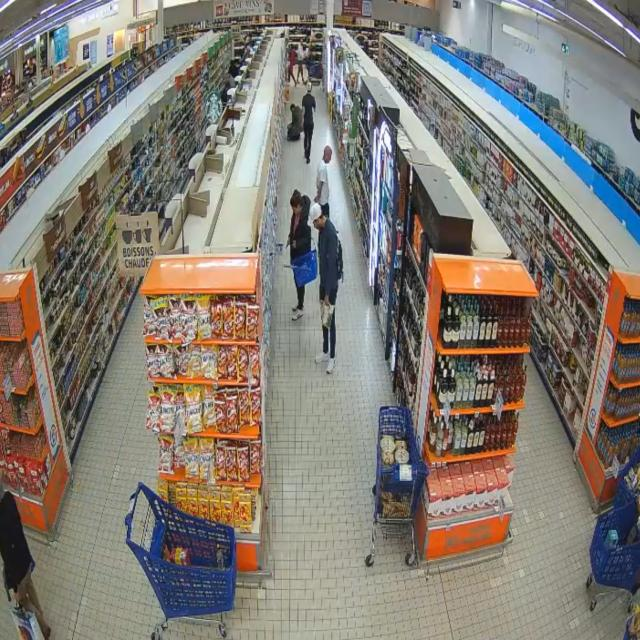bags: (10, 603, 44, 639), (321, 301, 334, 328), (337, 234, 343, 281)
hands: (13, 592, 20, 606), (324, 296, 329, 304), (286, 239, 290, 248), (314, 196, 319, 202), (292, 241, 296, 248)
person: (0, 486, 51, 638), (312, 204, 338, 306), (288, 190, 311, 260), (315, 146, 332, 217), (302, 82, 316, 164), (288, 104, 302, 140)
